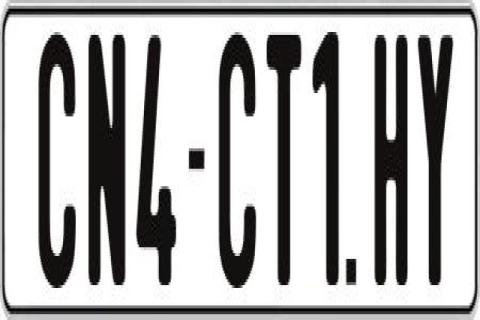0: (134, 32, 180, 300), (310, 29, 341, 299)
C: (35, 35, 79, 297), (218, 35, 256, 291)
H: (374, 29, 412, 297)
N: (86, 35, 126, 299)
T: (263, 27, 298, 280)
Y: (416, 32, 452, 294)
